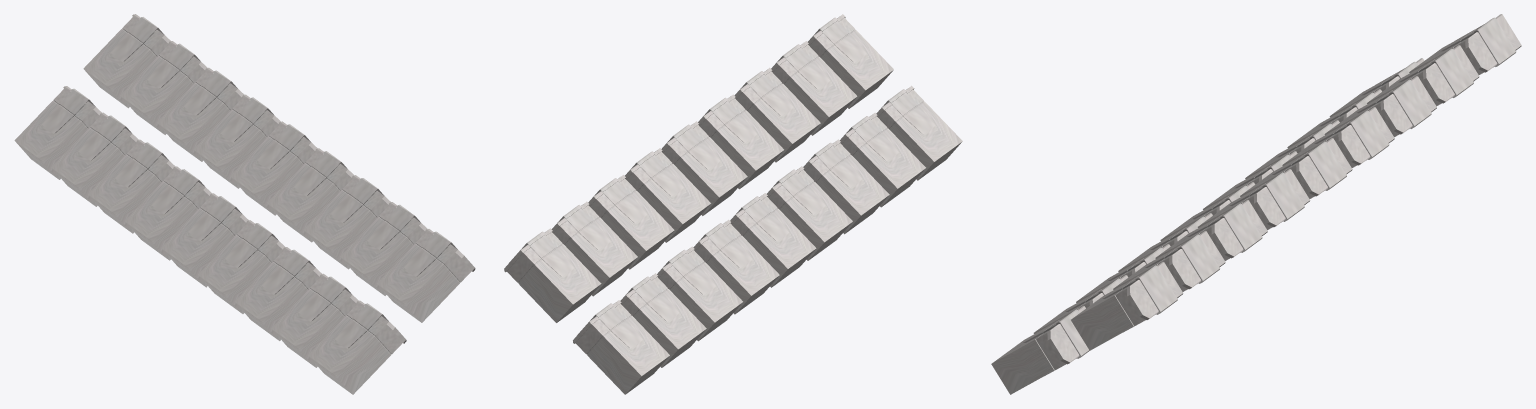
File: Orange_TicTac.fbx
The picture shows the model from 3 angles, left to right: view 1: azimuth 30°, elevation 25°; view 2: azimuth 150°, elevation 25°; view 3: azimuth 330°, elevation 25°; orthographic projection. The views are drawn at different scales.
Parts seen in each view (by area): view 1: Orange_TicTac17; view 2: Orange_TicTac17; view 3: Orange_TicTac17.
Boxes of the visible parts, x1,y1,x2,y2 form: Orange_TicTac17: [14, 14, 475, 394]; Orange_TicTac17: [504, 14, 962, 394]; Orange_TicTac17: [991, 14, 1521, 394].
Size of the model in its own units: 15.44 by 12.86 by 62.3.
